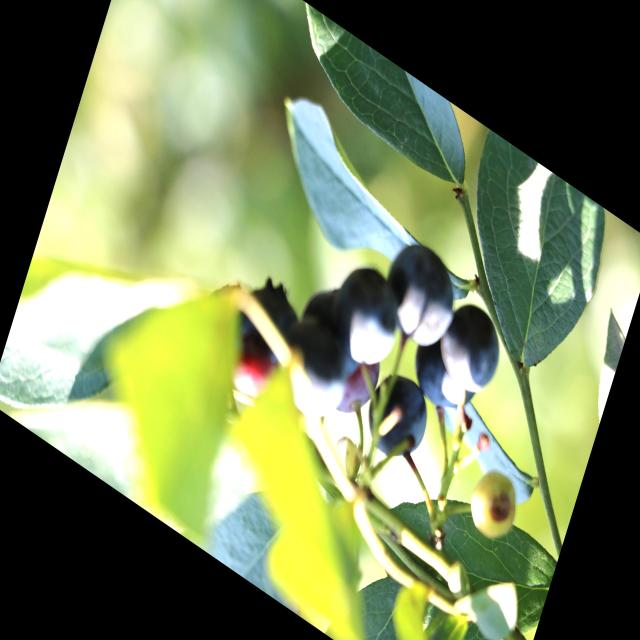blueberry: (370, 221, 474, 371), (265, 298, 363, 440), (319, 248, 413, 389), (222, 252, 317, 385), (288, 260, 382, 385), (353, 353, 439, 480), (398, 320, 489, 436), (429, 288, 515, 410)
blueberry-halfripe: (231, 333, 280, 408)
blueberry-unripe: (458, 455, 526, 555)
